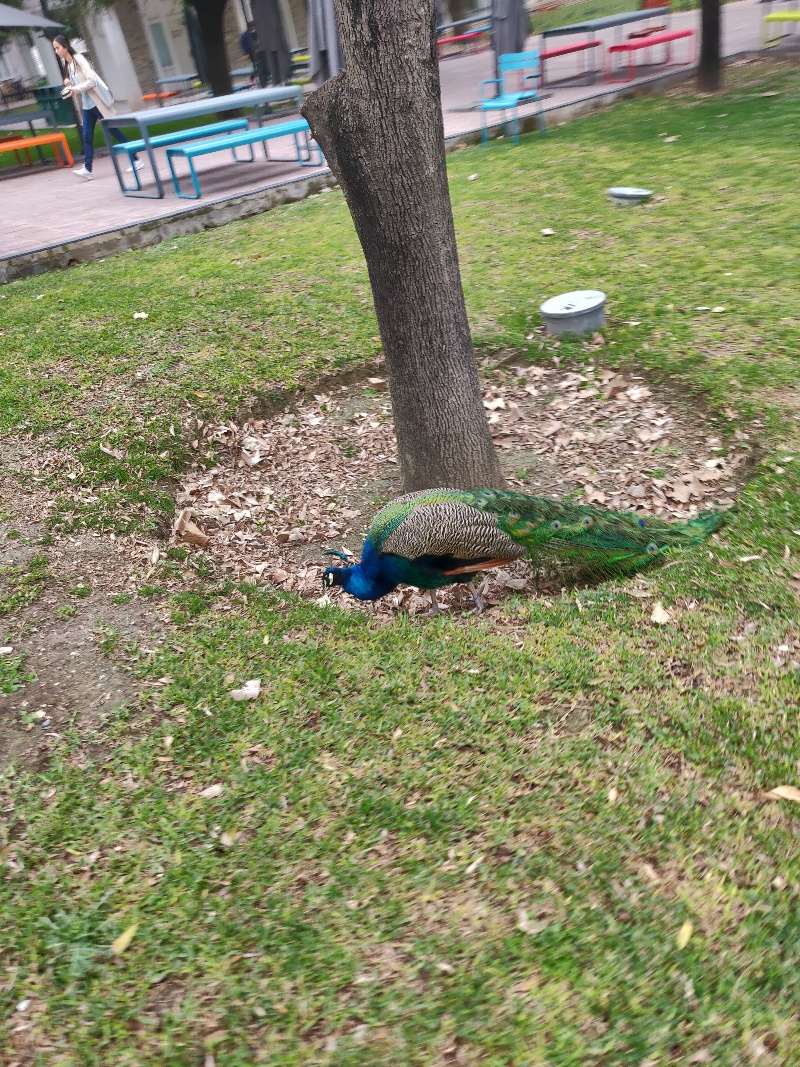pavoreal: (312, 493, 495, 601)
